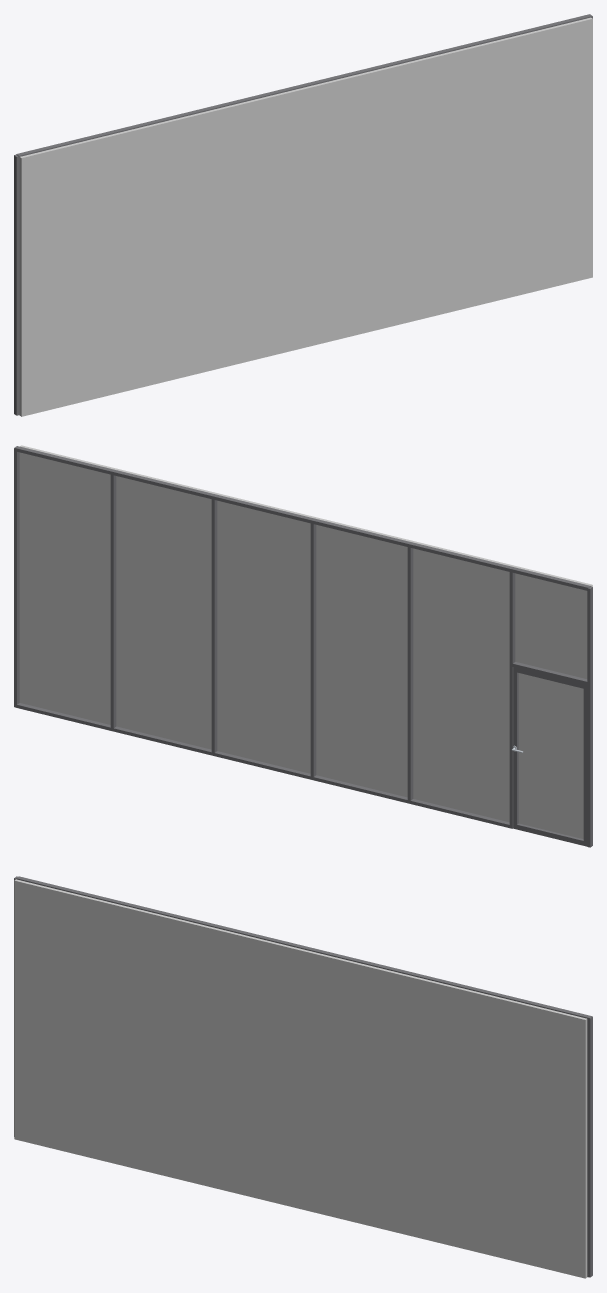
The model's file is DinerGlassWall.glb.
The picture shows the model from 3 angles, top to bottom: view 1: azimuth 30°, elevation 25°; view 2: azimuth 150°, elevation 25°; view 3: azimuth 330°, elevation 25°; orthographic projection.
Parts seen in each view (by area): view 1: Glass, Box 2, Box 14; view 2: Glass, Box 2, Box 11, Box 5, Box 4, Box 1, Box 12, Box 14, Box 13, Box 3, Box 8, Box 7; view 3: Glass, Box 2, Box 13.
Boxes of the visible parts, x1=… form: Glass: x1=19, y1=17, x2=592, y2=416; Box 2: x1=16, y1=14, x2=592, y2=158; Box 14: x1=14, y1=154, x2=19, y2=415; Glass: x1=19, y1=445, x2=592, y2=838; Box 2: x1=14, y1=446, x2=590, y2=590; Box 11: x1=16, y1=703, x2=511, y2=828; Box 5: x1=407, y1=544, x2=413, y2=803; Box 4: x1=310, y1=521, x2=316, y2=779; Box 1: x1=211, y1=497, x2=217, y2=755; Box 12: x1=110, y1=472, x2=116, y2=731; Box 14: x1=587, y1=586, x2=592, y2=847; Box 13: x1=14, y1=448, x2=19, y2=707; Box 3: x1=509, y1=572, x2=515, y2=828; Box 8: x1=513, y1=667, x2=518, y2=828; Box 7: x1=583, y1=684, x2=587, y2=846; Glass: x1=14, y1=879, x2=587, y2=1278; Box 2: x1=16, y1=876, x2=592, y2=1021; Box 13: x1=587, y1=1017, x2=592, y2=1277.
Bounding box in the file's own units: 2.32 × 0.9984 × 0.0511.
Materials: 28 (1 with a texture image).
